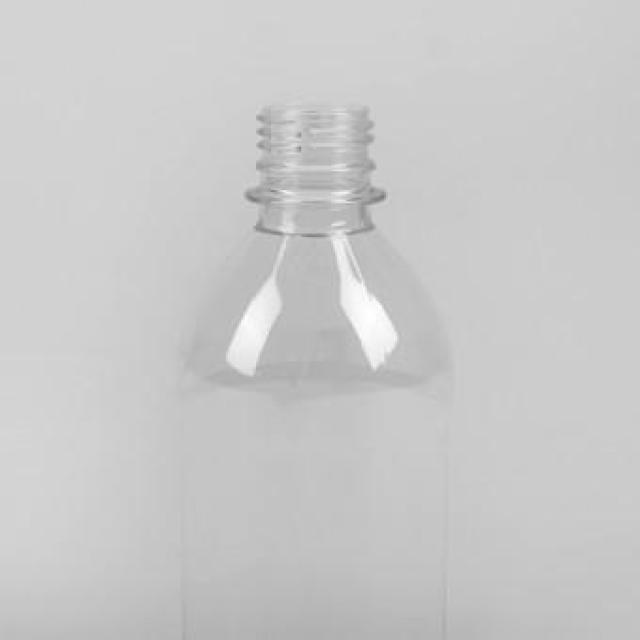bottle: (177, 98, 455, 640)
